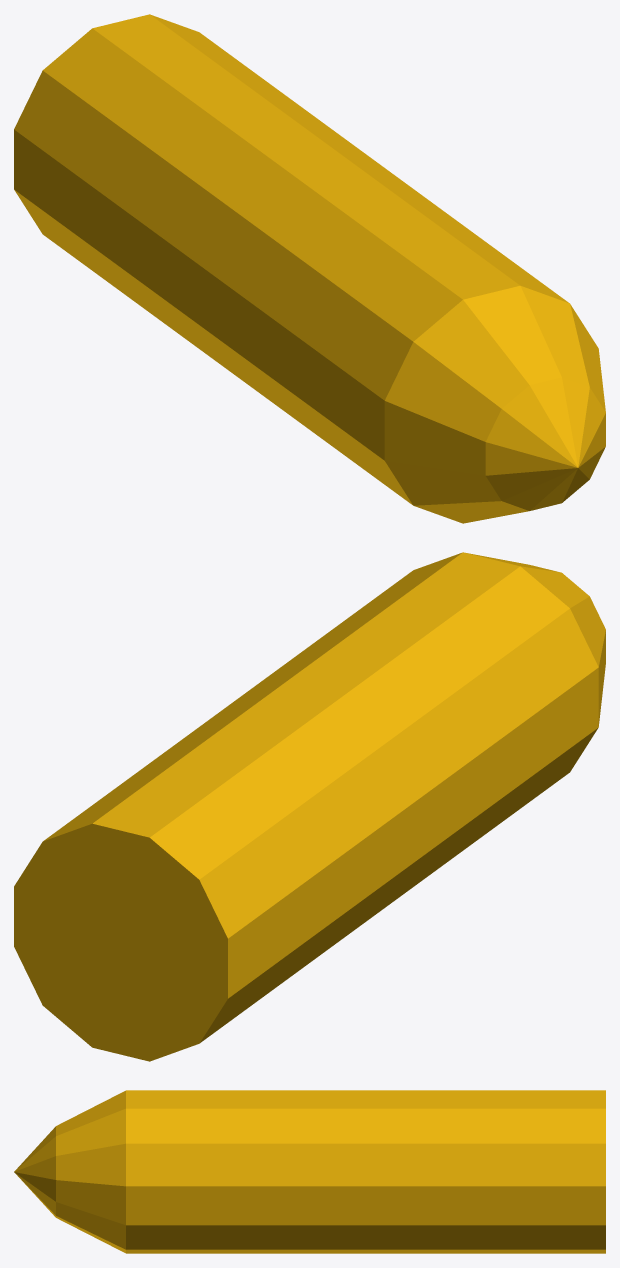
Rendered from Bullet.obj.
The picture shows the model from 3 angles, top to bottom: view 1: azimuth 30°, elevation 25°; view 2: azimuth 150°, elevation 25°; view 3: azimuth 270°, elevation 25°; orthographic projection. The views are drawn at different scales.
Visible parts, largest first — view 1: cylinder, cone; view 2: cylinder, cone; view 3: cylinder, cone.
Boxes of the visible parts, x1,y1,x2,y2 form: cylinder: (14,14,569,504); cone: (384,285,605,523); cylinder: (14,552,598,1061); cone: (465,552,605,726); cylinder: (126,1090,605,1253); cone: (14,1090,125,1253).
Size of the model in its own units: 0.625 by 0.625 by 2.31.
